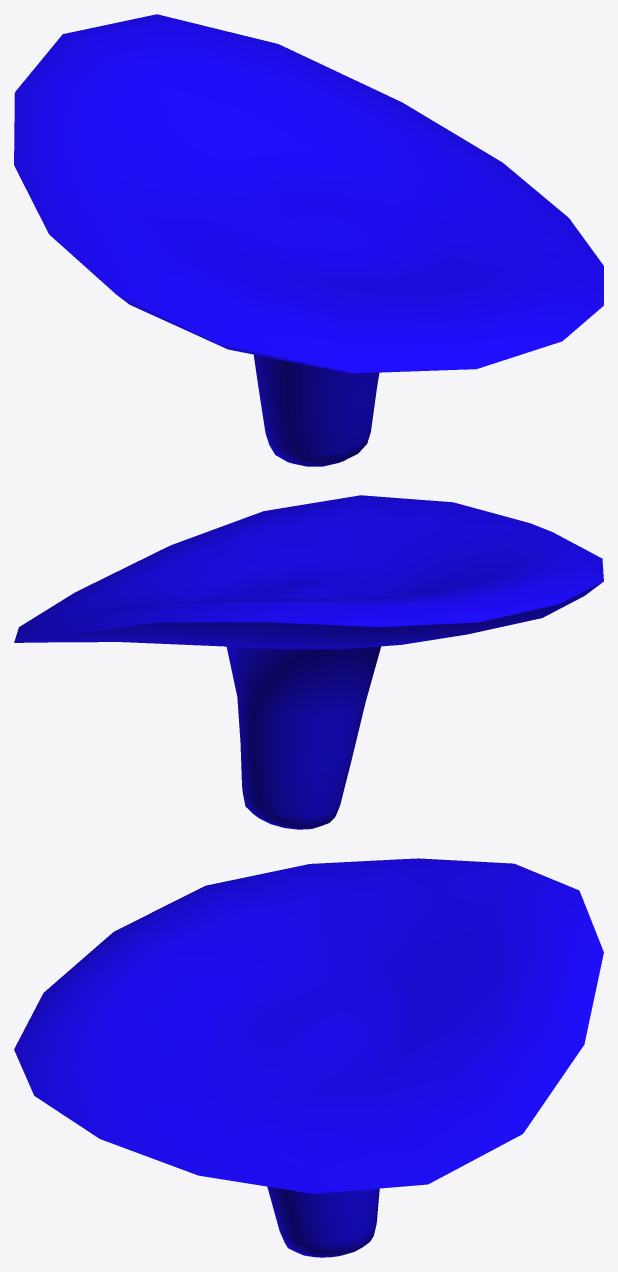
Rendered from SM_Plante_plate.fbx.
3 views of the same model, one above another, from view 1: azimuth 30°, elevation 25°; view 2: azimuth 150°, elevation 25°; view 3: azimuth 270°, elevation 25° (orthographic). The views are drawn at different scales.
Visible parts, largest first — view 1: Plante_plate_02_low; view 2: Plante_plate_02_low; view 3: Plante_plate_02_low.
Part boxes in pixels (<box>): Plante_plate_02_low: <box>14,14,603,466</box>; Plante_plate_02_low: <box>14,495,603,829</box>; Plante_plate_02_low: <box>14,858,603,1257</box>.
Size of the model in its own units: 44.06 by 28.44 by 47.99.
